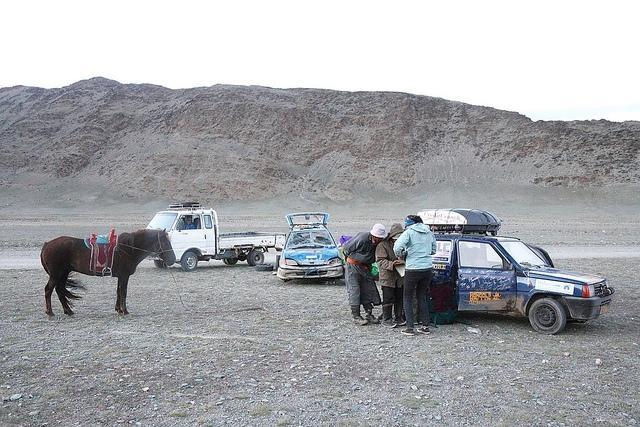car: (433, 235, 615, 334), (276, 212, 344, 281)
truck: (429, 234, 616, 334), (146, 202, 288, 269)
